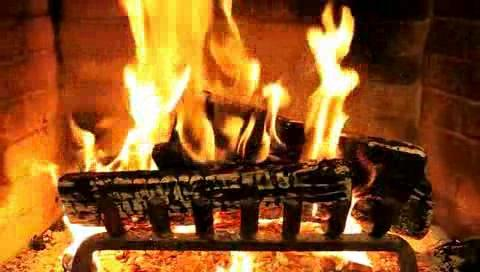fire: (106, 5, 368, 170)
